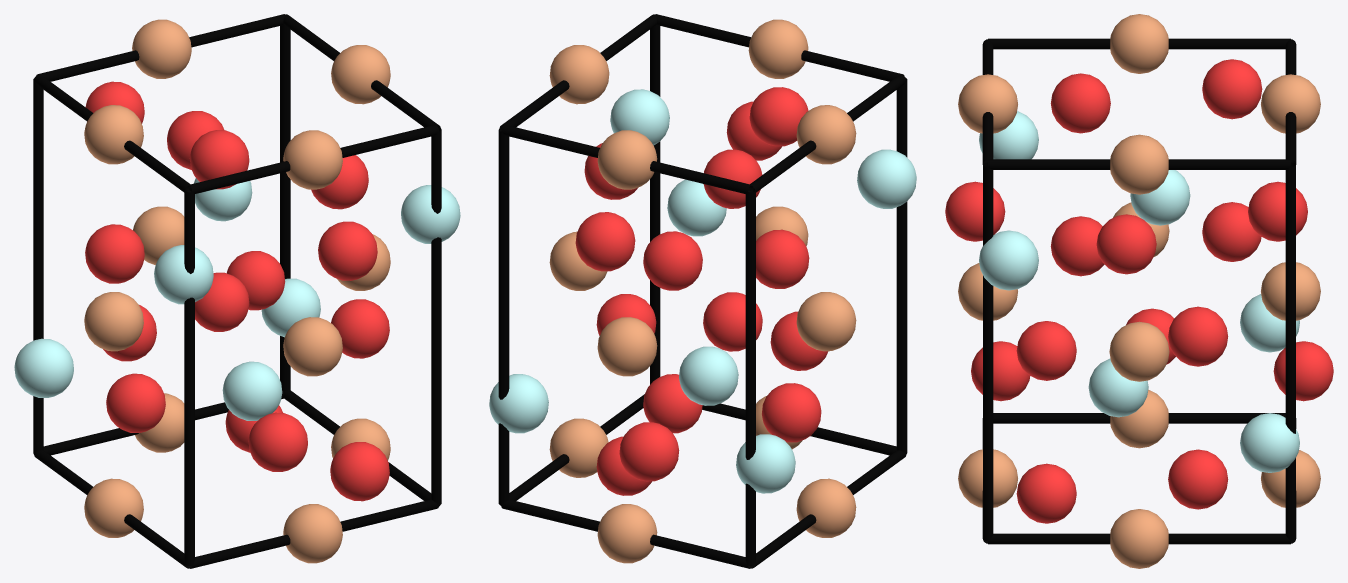
Rendered from simmate_structure.glb.
3 renders of one model, left to right at view 1: azimuth 30°, elevation 25°; view 2: azimuth 150°, elevation 25°; view 3: azimuth 270°, elevation 25°, orthographic.
Visible parts, largest first — view 1: Cube, Icosphere.016, Icosphere.025, Icosphere.027, Icosphere.014, Icosphere.004, Icosphere.022, Icosphere.028, Icosphere.030, Icosphere, Icosphere.008, Icosphere.006 (+21 smaller); view 2: Cube, Icosphere.021, Icosphere.026, Icosphere.014, Icosphere.001, Icosphere, Icosphere.017, Icosphere.031, Icosphere.028, Icosphere.008, Icosphere.007, Icosphere.009 (+20 smaller); view 3: Cube, Icosphere.029, Icosphere.015, Icosphere.021, Icosphere.024, Icosphere.013, Icosphere.019, Icosphere.023, Icosphere.018, Icosphere.022, Icosphere.011, Icosphere.012 (+21 smaller).
Boxes of the visible parts, x1,y1,x2,y2 form: Cube: (33,14,441,568); Icosphere.016: (283,317,342,376); Icosphere.025: (85,224,144,283); Icosphere.027: (318,221,377,280); Icosphere.014: (84,292,143,351); Icosphere.004: (14,338,73,397); Icosphere.022: (330,442,389,501); Icosphere.028: (106,373,165,432); Icosphere.030: (248,412,307,471); Icosphere: (222,361,282,420); Icosphere.008: (283,130,342,189); Icosphere.006: (283,504,342,563); Cube: (498,14,907,568); Icosphere.021: (643,231,702,290); Icosphere.026: (575,212,635,271); Icosphere.014: (796,292,856,351); Icosphere.001: (857,149,916,208); Icosphere: (679,346,738,405); Icosphere.017: (597,317,657,376); Icosphere.031: (619,422,679,481); Icosphere.028: (762,383,821,442); Icosphere.008: (748,19,808,78); Icosphere.007: (597,504,657,563); Icosphere.009: (597,130,657,189); Cube: (982,38,1296,544); Icosphere.029: (1096,214,1156,274); Icosphere.015: (1109,321,1169,381); Icosphere.021: (1016,321,1076,380); Icosphere.024: (1168,306,1228,366); Icosphere.013: (1110,134,1168,194); Icosphere.019: (1168,449,1228,509); Icosphere.023: (1050,73,1110,133); Icosphere.018: (1202,59,1262,119); Icosphere.022: (1016,463,1076,523); Icosphere.011: (1110,509,1168,568); Icosphere.012: (1110,14,1168,73).
Bounding box in the file's own units: 6.67 × 8.85 × 7.27.
